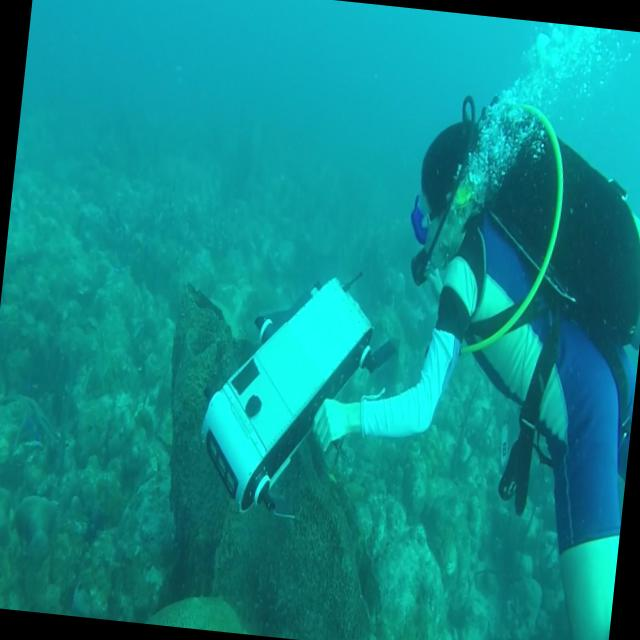human: (287, 75, 640, 640)
